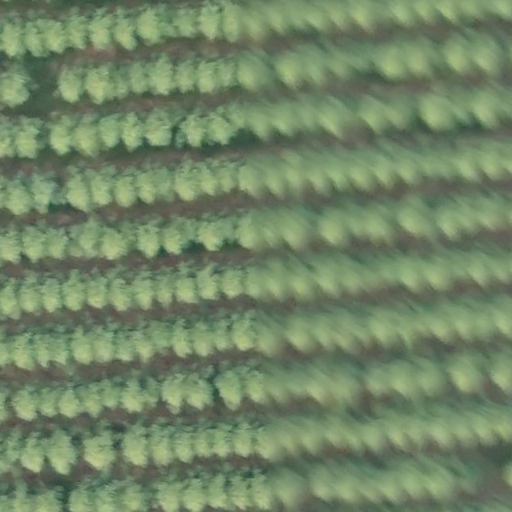eucalipto: (119, 420, 157, 473), (43, 424, 79, 478), (158, 211, 200, 256), (35, 325, 73, 370), (52, 59, 87, 106), (143, 108, 178, 148), (169, 315, 200, 360), (111, 10, 140, 52), (189, 421, 218, 461), (24, 221, 51, 263), (115, 165, 139, 207), (99, 113, 124, 149)
